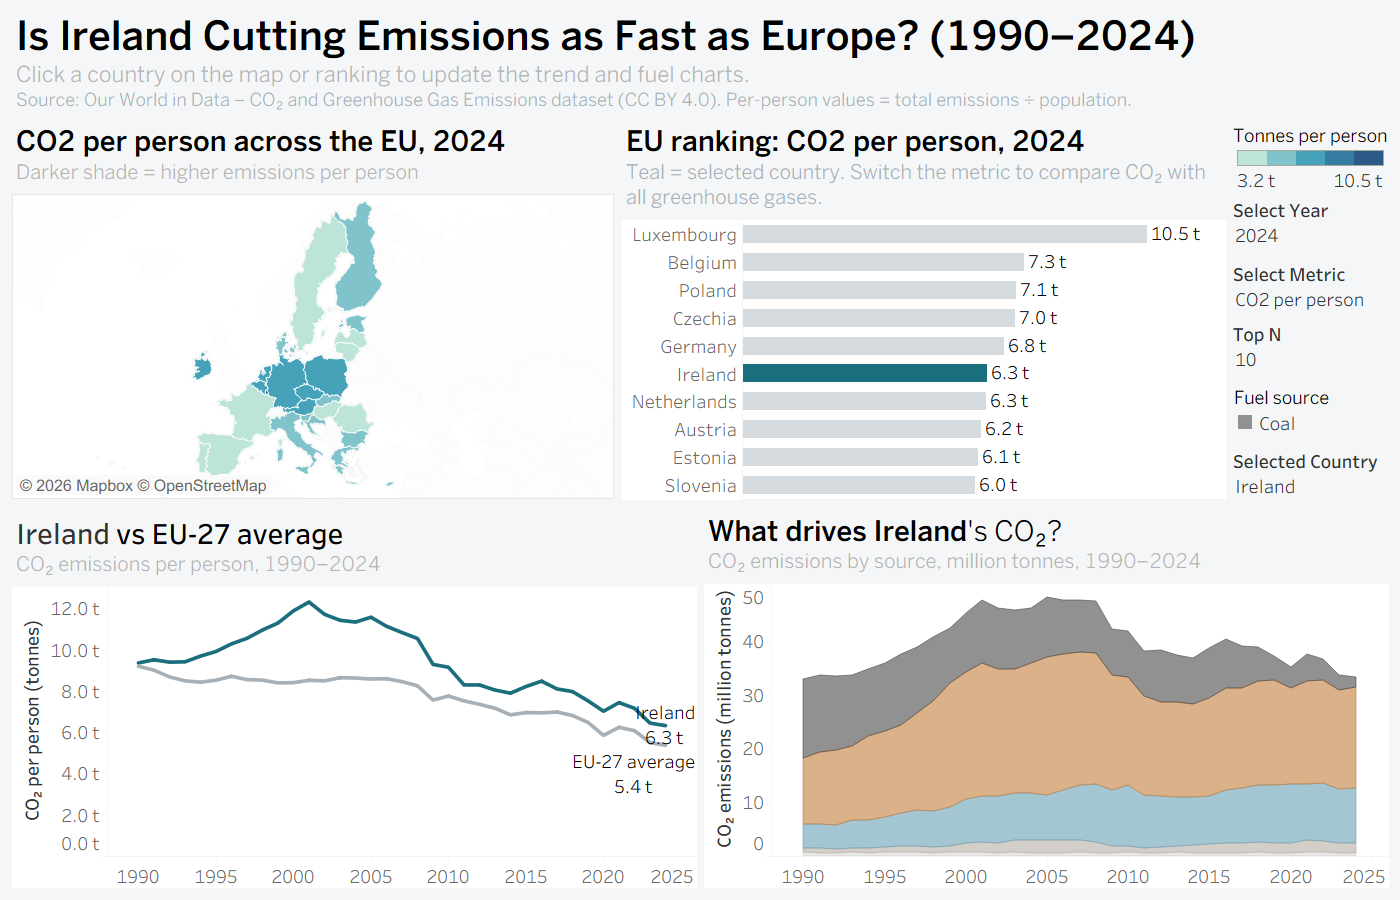

The dashboard page shown, as its layout file describes it:
{"tool":"tableau","page":{"name":"Ireland Climate Dashboard","canvas":[1400,900],"ordinal":0},"visuals":[{"type":"title","box":[8,8,1384,107]},{"type":"worksheet","title":"2 Map","mark":"Multipolygon","box":[8,115,610,388.5]},{"type":"worksheet","title":"3 Ranking","mark":"Automatic","rows":["country"],"cols":["Calculation_1347237042470918"],"box":[618,115,611,388.5]},{"type":"legend","title":"2 Map","param":"[federated.173is7h0natwai122jhot04025qx].[usr:Calculation_1347237042470918:qk]","box":[1229,115,163,77]},{"type":"parameter","param":"[Parameters].[Parameter 1347237013291008]","box":[1229,192,163,63.8]},{"type":"parameter","param":"[Parameters].[Parameter 1347237040885763]","box":[1229,255.8,163,60]},{"type":"parameter","param":"[Parameters].[Parameter 1347237041770500]","box":[1229,315.8,163,63.8]},{"type":"legend","title":"4 Fuel Mix","param":"[federated.173is7h0natwai122jhot04025qx].[:Measure Names]","box":[1229,379.6,163,63.8]},{"type":"parameter","param":"[Parameters].[Parameter 0679833134129153]","box":[1229,443.5,163,60]},{"type":"worksheet","title":"1 Trend","mark":"Automatic","rows":["Calculation_0679833134727170"],"cols":["year"],"box":[8,503.5,692,388.5]},{"type":"worksheet","title":"4 Fuel Mix","mark":"Area","cols":["year"],"box":[700,503.5,692,388.5]}]}

Visuals, with their boxes in screenshot pixels (x1, y1, x2, y2), scaled from the page's 1400x900 canvas onto the 1400x900 screenshot:
title: {"left": 8, "top": 8, "right": 1392, "bottom": 115}
"2 Map" worksheet (Multipolygon marks): {"left": 8, "top": 115, "right": 618, "bottom": 504}
"3 Ranking" worksheet: {"left": 618, "top": 115, "right": 1229, "bottom": 504}
"2 Map" legend: {"left": 1229, "top": 115, "right": 1392, "bottom": 192}
parameter: {"left": 1229, "top": 192, "right": 1392, "bottom": 256}
parameter: {"left": 1229, "top": 256, "right": 1392, "bottom": 316}
parameter: {"left": 1229, "top": 316, "right": 1392, "bottom": 380}
"4 Fuel Mix" legend: {"left": 1229, "top": 380, "right": 1392, "bottom": 443}
parameter: {"left": 1229, "top": 444, "right": 1392, "bottom": 504}
"1 Trend" worksheet: {"left": 8, "top": 504, "right": 700, "bottom": 892}
"4 Fuel Mix" worksheet (Area marks): {"left": 700, "top": 504, "right": 1392, "bottom": 892}
